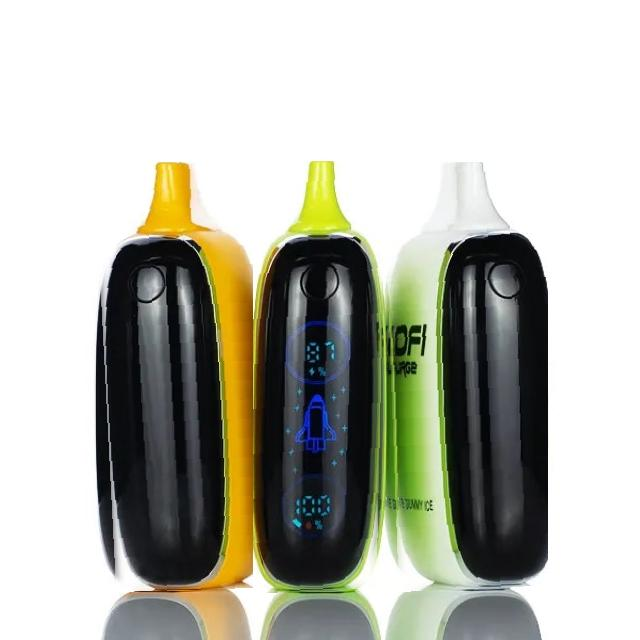Vapes: (383, 162, 548, 592), (94, 162, 254, 592), (253, 161, 386, 594)
